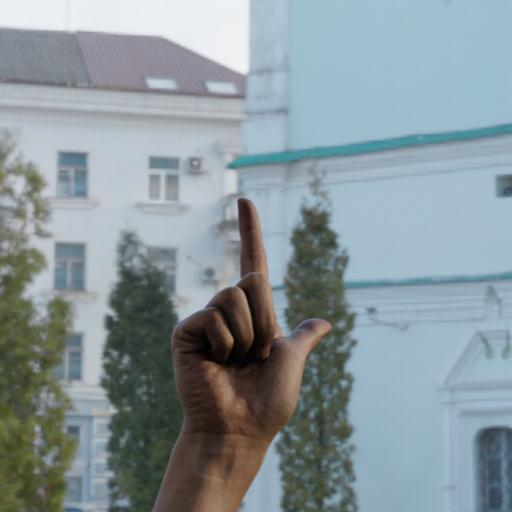L: (155, 178, 339, 512)
